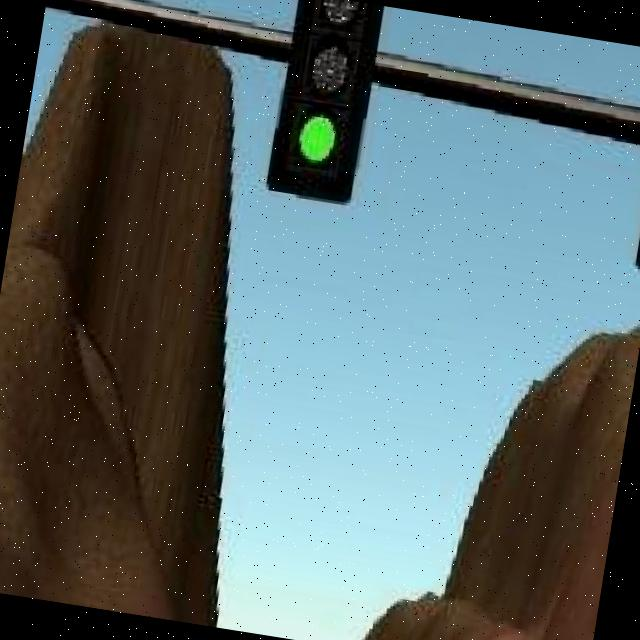Zielone swiatlo: (271, 0, 381, 206)
